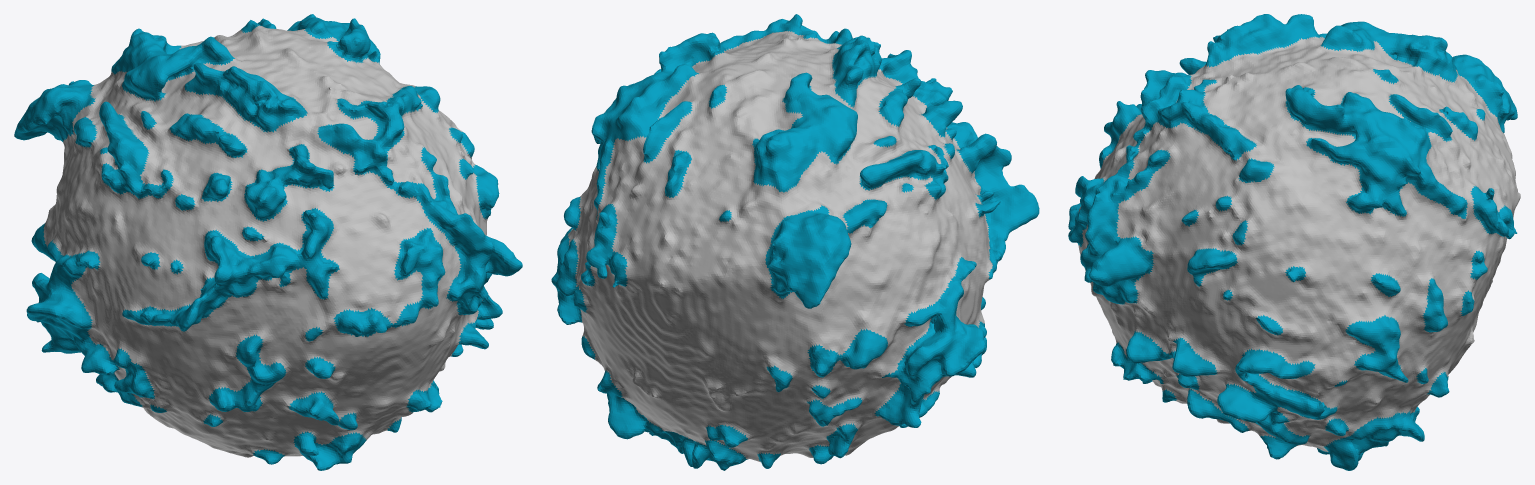
3 renders of one model, left to right at view 1: azimuth 30°, elevation 25°; view 2: azimuth 150°, elevation 25°; view 3: azimuth 270°, elevation 25°, orthographic. The views are drawn at different scales.
Size of the model in its own units: 163 by 149 by 158.
